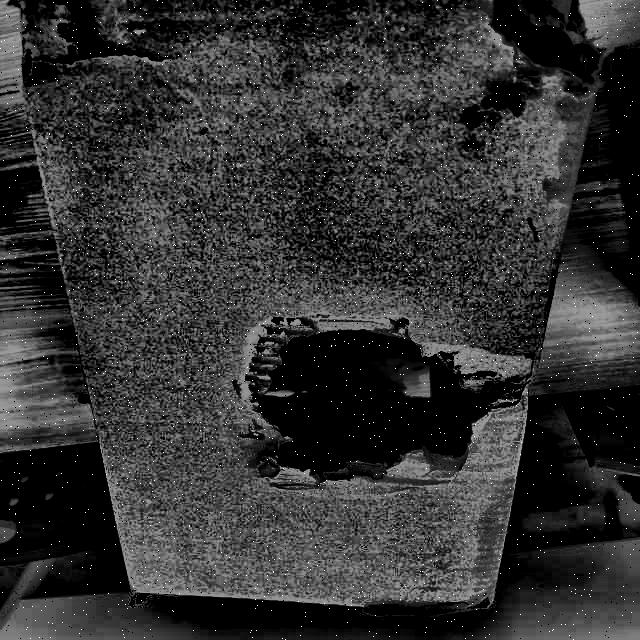box: (45, 0, 572, 621)
hole: (233, 317, 501, 491), (484, 0, 611, 99)
